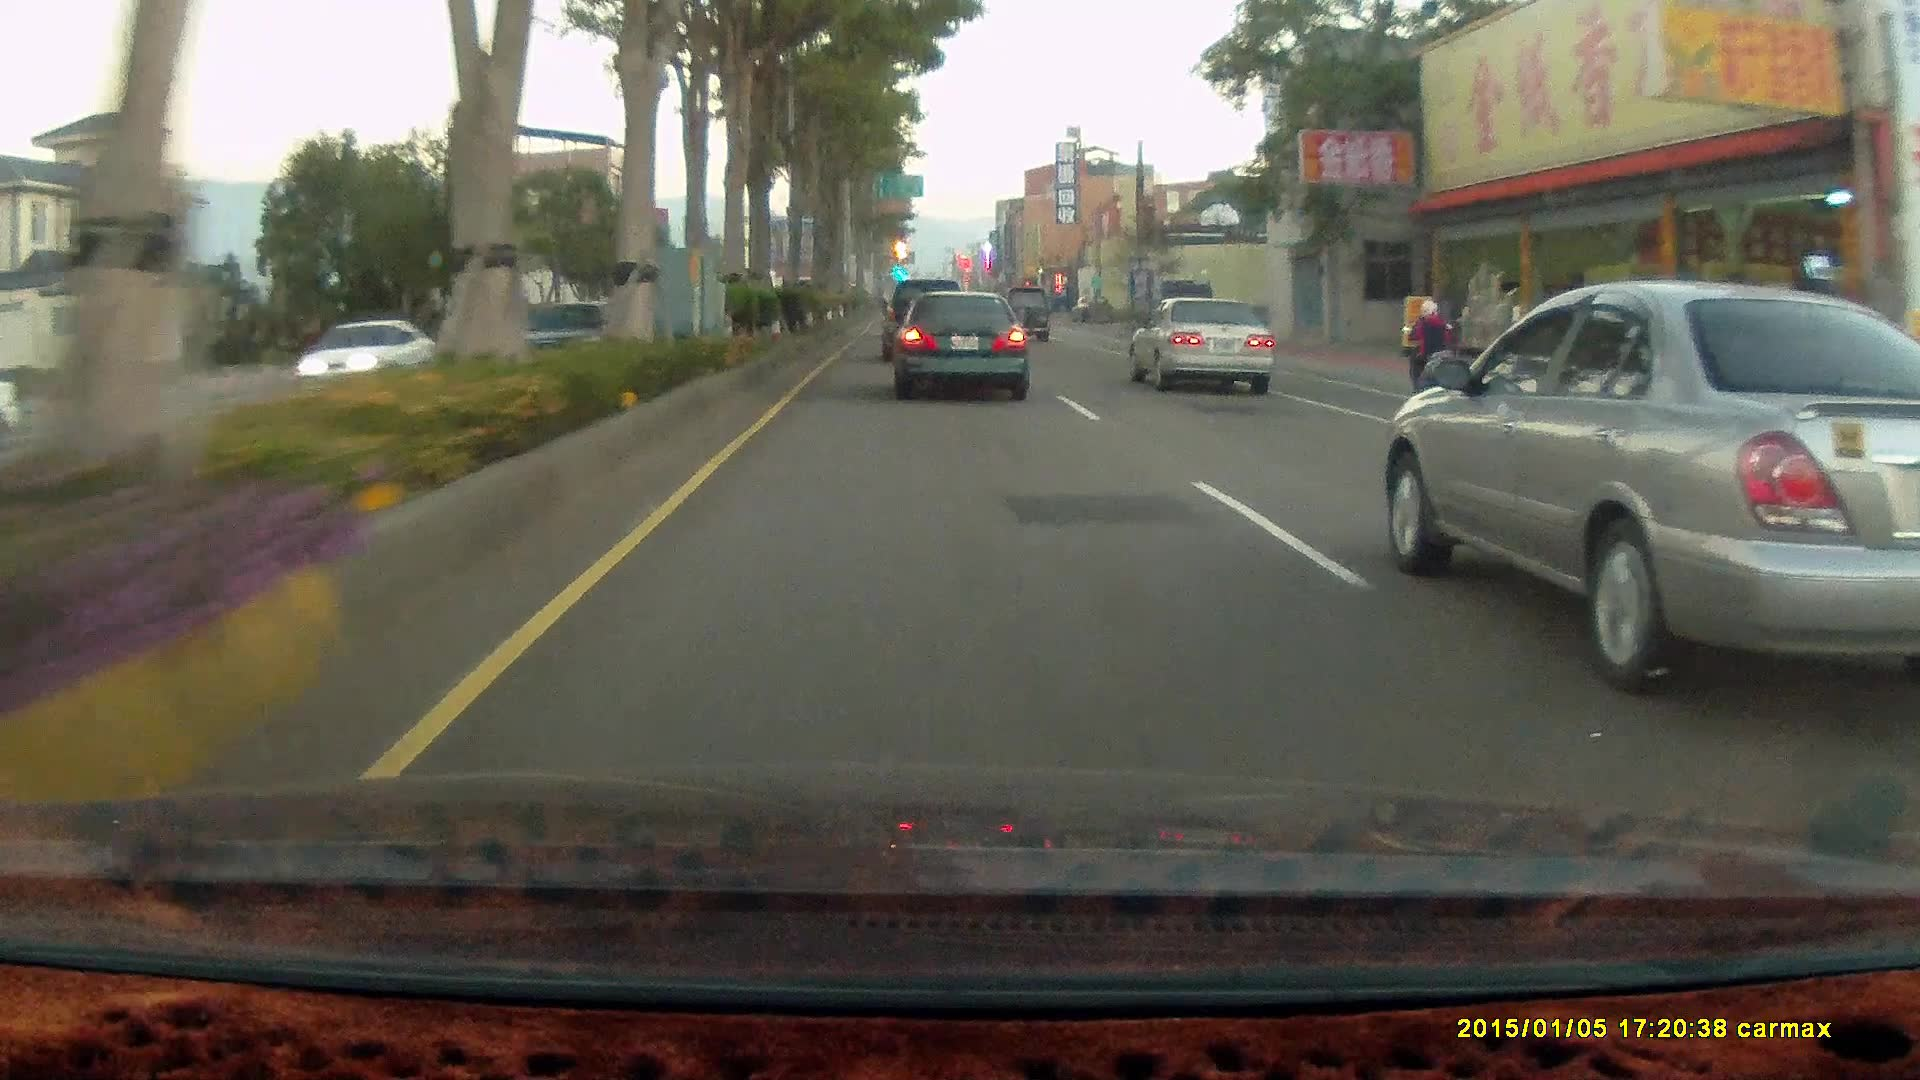rider: (1391, 291, 1467, 414), (1398, 296, 1459, 406)
vehicle: (1374, 289, 1920, 702), (892, 290, 1034, 408), (887, 288, 1027, 400), (1130, 298, 1282, 401), (1126, 294, 1272, 393), (292, 318, 434, 400), (292, 321, 440, 391), (883, 278, 973, 363), (518, 303, 633, 362), (881, 279, 963, 360), (1148, 280, 1213, 342), (1002, 283, 1051, 342)
